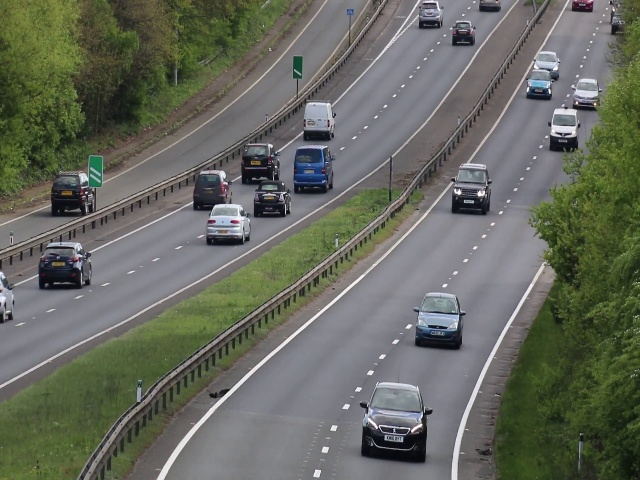car: (361, 382, 428, 464), (415, 290, 465, 349), (36, 241, 94, 287), (450, 163, 494, 215), (52, 171, 97, 215), (294, 145, 334, 192), (207, 206, 252, 244), (241, 142, 281, 182), (191, 171, 234, 206), (252, 182, 293, 217), (301, 103, 338, 140), (548, 110, 579, 151), (572, 76, 601, 108), (415, 1, 443, 28), (527, 70, 553, 99), (453, 20, 476, 46), (532, 51, 559, 71)
